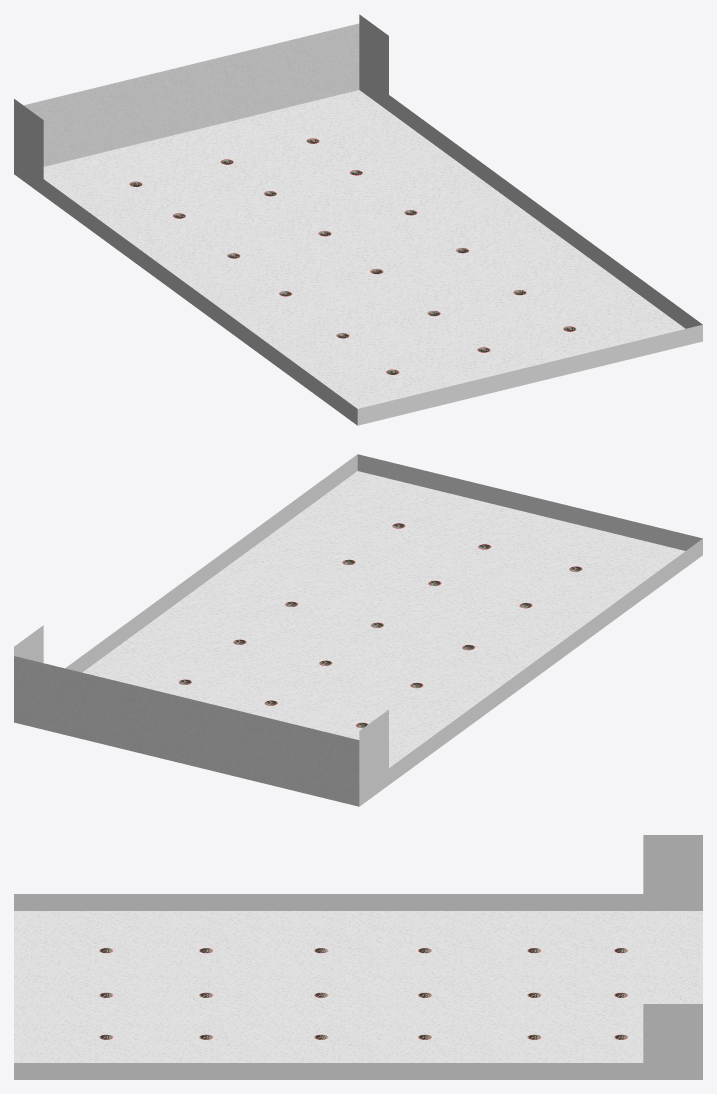
Rendered from Ceiling.fbx.
3 views of the same model, one above another, from view 1: azimuth 30°, elevation 25°; view 2: azimuth 150°, elevation 25°; view 3: azimuth 270°, elevation 25° (orthographic).
Visible parts, largest first — view 1: Ceiling; view 2: Ceiling; view 3: Ceiling.
Boxes of the visible parts, x1=… form: Ceiling: x1=14, y1=14, x2=702, y2=425; Ceiling: x1=14, y1=454, x2=702, y2=806; Ceiling: x1=14, y1=835, x2=702, y2=1079.
Size of the model in its own units: 756 by 158 by 1303.
